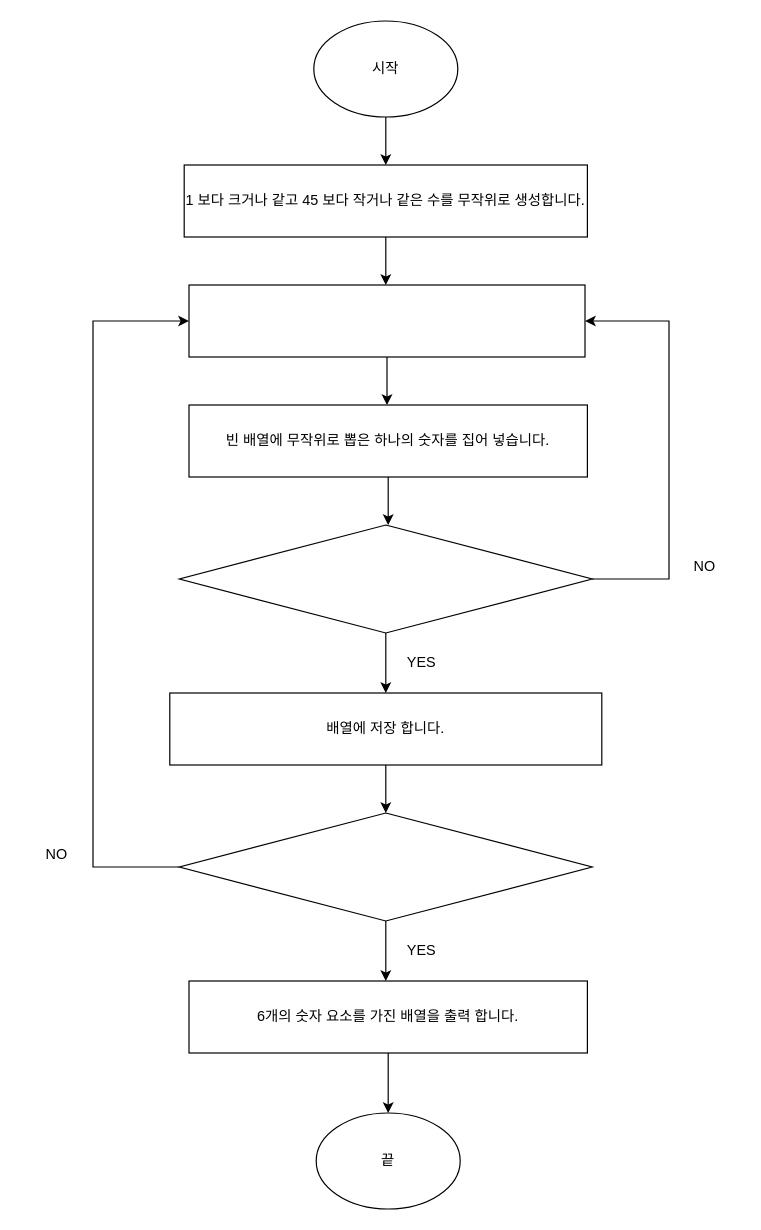
The diagram is 761 pixels wide and 1230 high, and some of its shapes have lost their labels. The centre of each missing label's shape, as x and y in pixels:
"무작위로 1 ~ 45의 숫자 중 하나를 뽑습니다." goes at point (386, 320).
"배열 내부에 저장된 요소들의 갯수가 6개 입니까?" goes at point (385, 866).
"배열에 넣은 숫자는 유일한(유니크) 숫자 입니까?" goes at point (385, 578).
